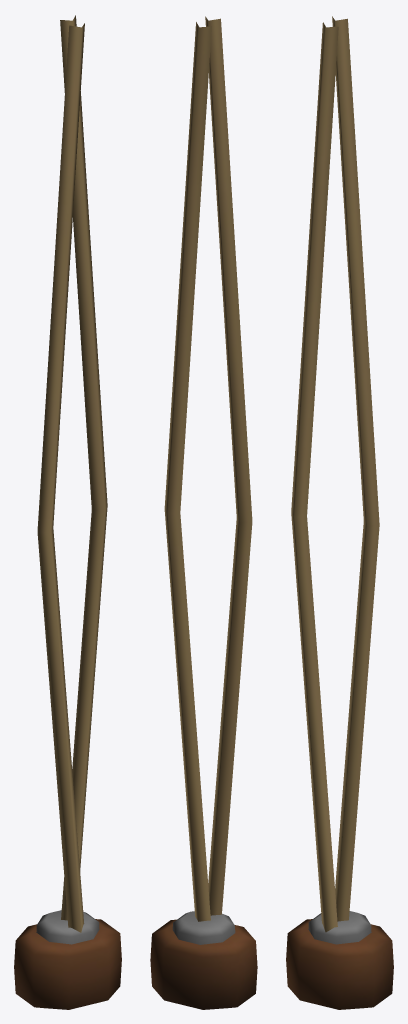
The model's file is fronde.glb.
The picture shows the model from 3 angles, left to right: view 1: azimuth 30°, elevation 25°; view 2: azimuth 150°, elevation 25°; view 3: azimuth 330°, elevation 25°; orthographic projection.
Parts seen in each view (by area): view 1: fronde; view 2: fronde; view 3: fronde.
Part boxes in pixels (x1=…): fronde: x1=14, y1=15, x2=121, y2=1009; fronde: x1=150, y1=16, x2=257, y2=1009; fronde: x1=286, y1=16, x2=393, y2=1009.
Bounding box in the file's own units: 0.0559 × 0.5903 × 0.0466.
1 material, 1 textured.
